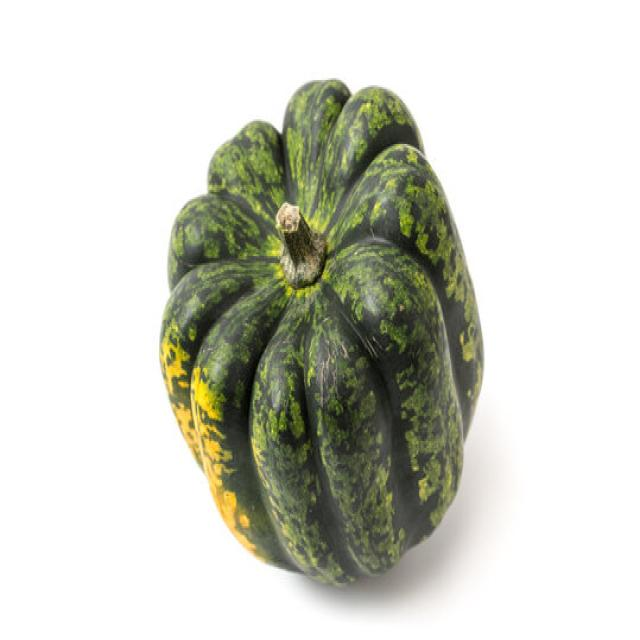Pumpkin: (158, 76, 484, 586)
